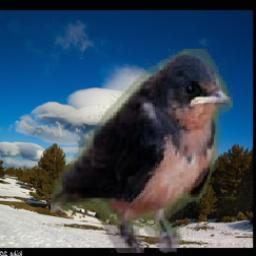Swallow: (50, 50, 232, 254)
